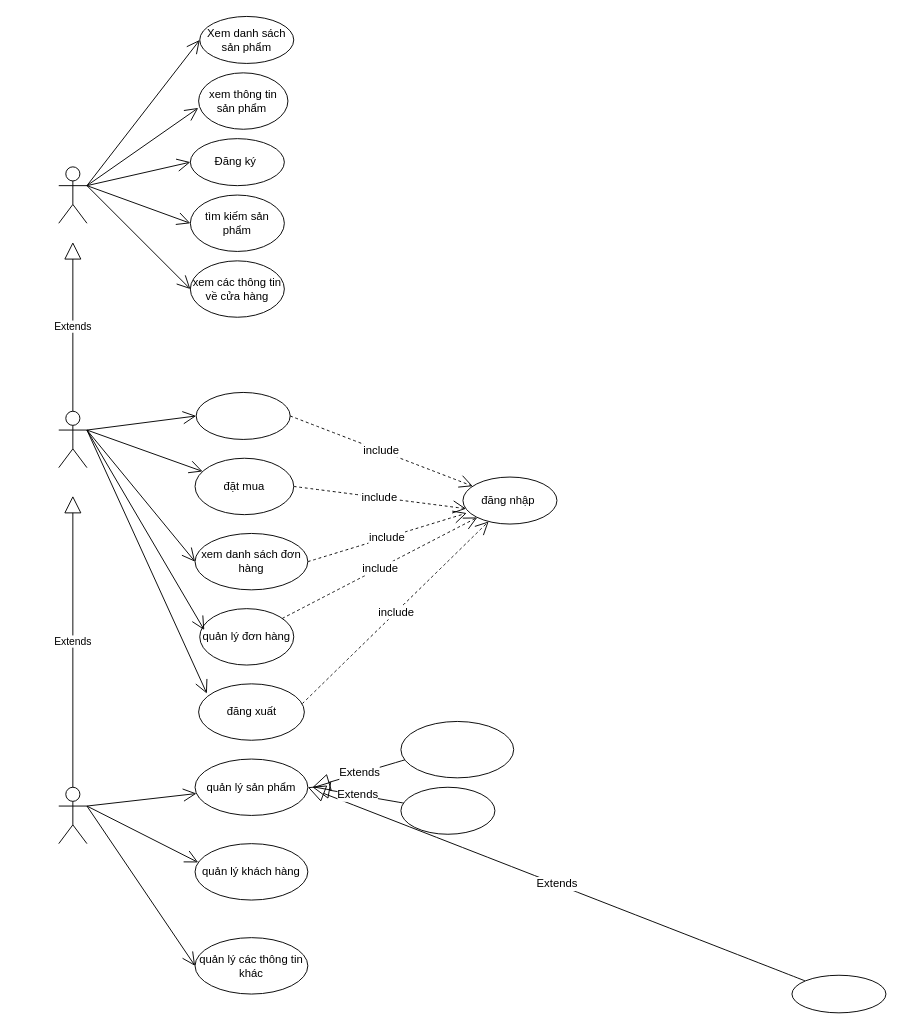
Some shapes in this 902 by 1029 pixel diagram are drawn without their labels. Each missing label, with the centre of its shape:
khách hàng ghé thăm: [72,194]
khách hàng thanh viên: [72,439]
quản trị: [72,815]
sửa thông tin sản phẩm: [457,749]
thêm sản phẩm mới: [838,993]
xóa sản phẩm cũ: [447,810]
đưa sản phẩm vào giỏ hàng: [242,415]
